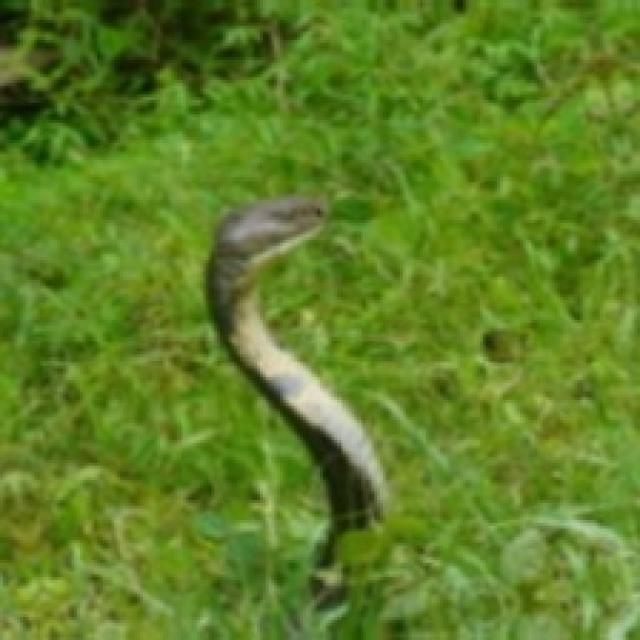king cobra: (206, 197, 386, 560)
